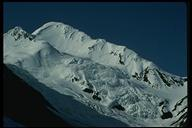mountain: (4, 17, 187, 123)
sky: (109, 3, 185, 36)
snow: (7, 42, 67, 61)
